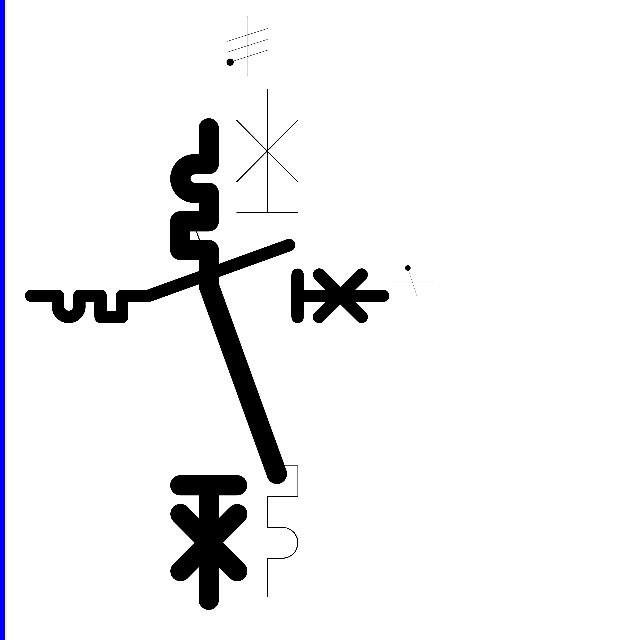interruptor_termomagnetico: (181, 76, 311, 609), (168, 116, 289, 612), (22, 236, 392, 326)
